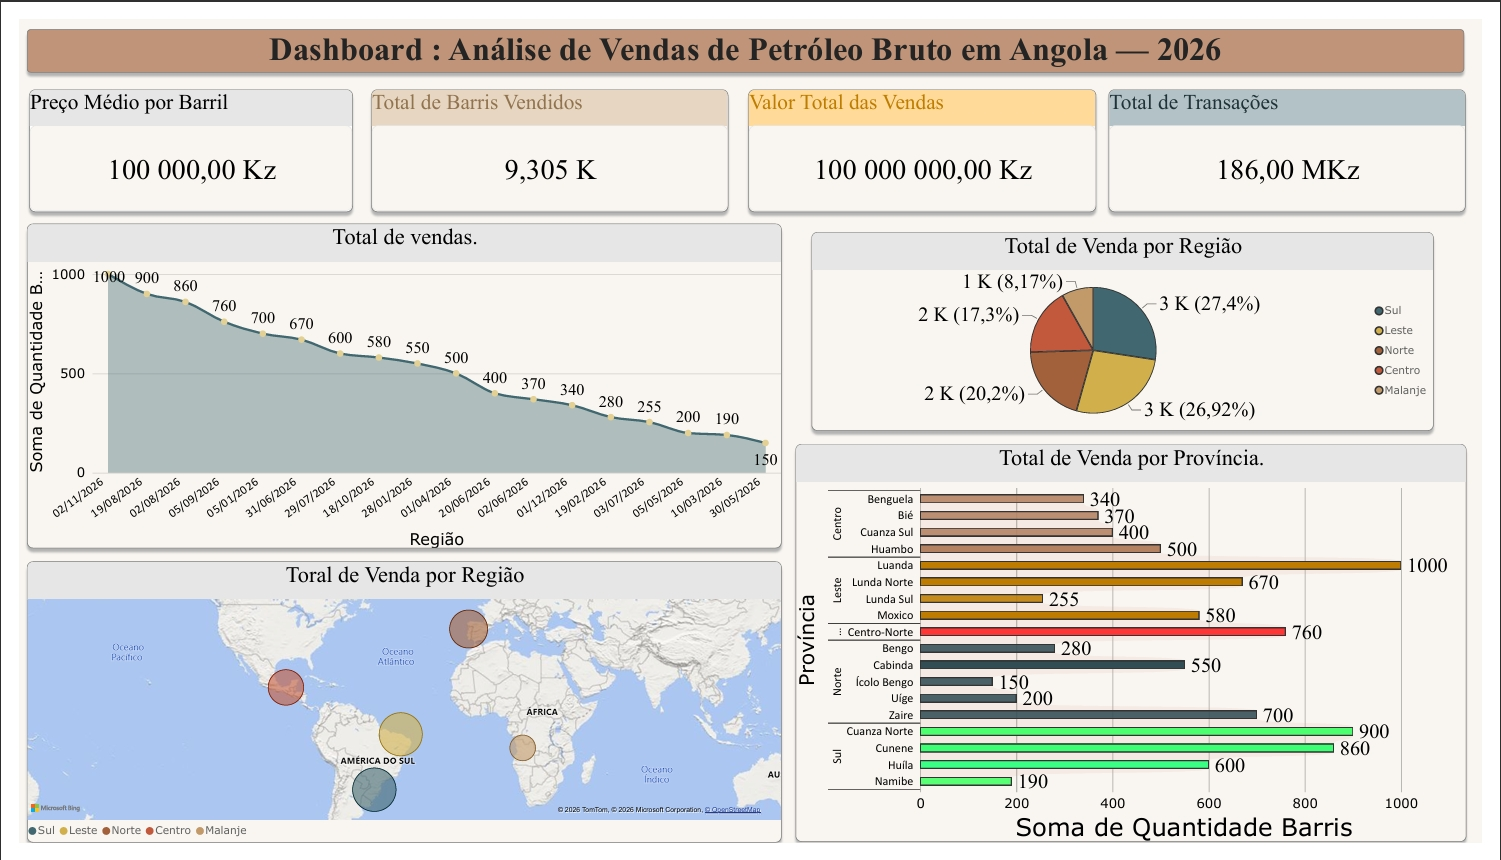

This screenshot's page, from the dashboard's own definition file:
{"tool":"powerbi","page":{"name":"Página 1","canvas":[1920,1080],"ordinal":0},"visuals":[{"type":"textbox","box":[10,0,280,280],"z":0},{"type":"textbox","box":[10,13.3,1886.7,56.7],"z":1000},{"type":"cardVisual","title":"Preço Médio por Barril","fields":{"Data":["Min(Análise de Venda de Petróleo por Região (Planilha1).Preço Único Kz)"]},"box":[13,92.1,425.5,160.4],"z":2000},{"type":"cardVisual","title":"Total de Barris Vendidos","fields":{"Data":["Sum(Análise de Venda de Petróleo por Região (Planilha1).Quantidade Barris)"]},"box":[462.1,92.1,469.4,160.4],"z":3000},{"type":"cardVisual","title":"Valor Total das Vendas","fields":{"Data":["Min(Planilha1.Valor Total Kz)"]},"box":[956.8,92.1,457.5,160.4],"z":4000},{"type":"cardVisual","title":"Total de Transações","fields":{"Data":["Sum(Planilha1.Valor Total Vendido Kz)"]},"box":[1429.5,92.1,469.4,160.4],"z":5000},{"type":"areaChart","title":"Total de vendas.","fields":{"Category":["Análise de Venda de Petróleo por Região (Planilha1).Data "],"Y":["Sum(Planilha1.Quantidade Barris)"]},"box":[10.1,268.5,991.1,425.5],"z":6000},{"type":"barChart","title":"Total de Venda por Província.","fields":{"Category":["Planilha1.Região","Planilha1.Província"],"Y":["Sum(Planilha1.Quantidade Barris)"]},"box":[1019,556.9,881,522.4],"z":7000},{"type":"map","title":"Total de Venda por Região","fields":{"Category":["Planilha1.Província"],"Size":["Sum(Planilha1.Quantidade Barris)"]},"box":[10,710.5,991,369.5],"z":8000},{"type":"pieChart","title":"Total de Venda por Região","fields":{"Category":["Planilha1.Região"],"Y":["Sum(Planilha1.Quantidade Barris)"]},"box":[1039.7,279.3,817.2,260.3],"z":8001}]}

Visuals, with their boxes in screenshot pixels (x1, y1, x2, y2), scaled from the page's 1920x1080 canvas onto the 1501x860 screenshot:
textbox: x1=8 y1=0 x2=227 y2=223
textbox: x1=8 y1=11 x2=1483 y2=56
"Preço Médio por Barril" cardVisual: x1=10 y1=73 x2=343 y2=201
"Total de Barris Vendidos" cardVisual: x1=361 y1=73 x2=728 y2=201
"Valor Total das Vendas" cardVisual: x1=748 y1=73 x2=1106 y2=201
"Total de Transações" cardVisual: x1=1118 y1=73 x2=1485 y2=201
"Total de vendas." areaChart: x1=8 y1=214 x2=783 y2=553
"Total de Venda por Província." barChart: x1=797 y1=443 x2=1485 y2=859
"Total de Venda por Região" map: x1=8 y1=566 x2=783 y2=859
"Total de Venda por Região" pieChart: x1=813 y1=222 x2=1452 y2=430
